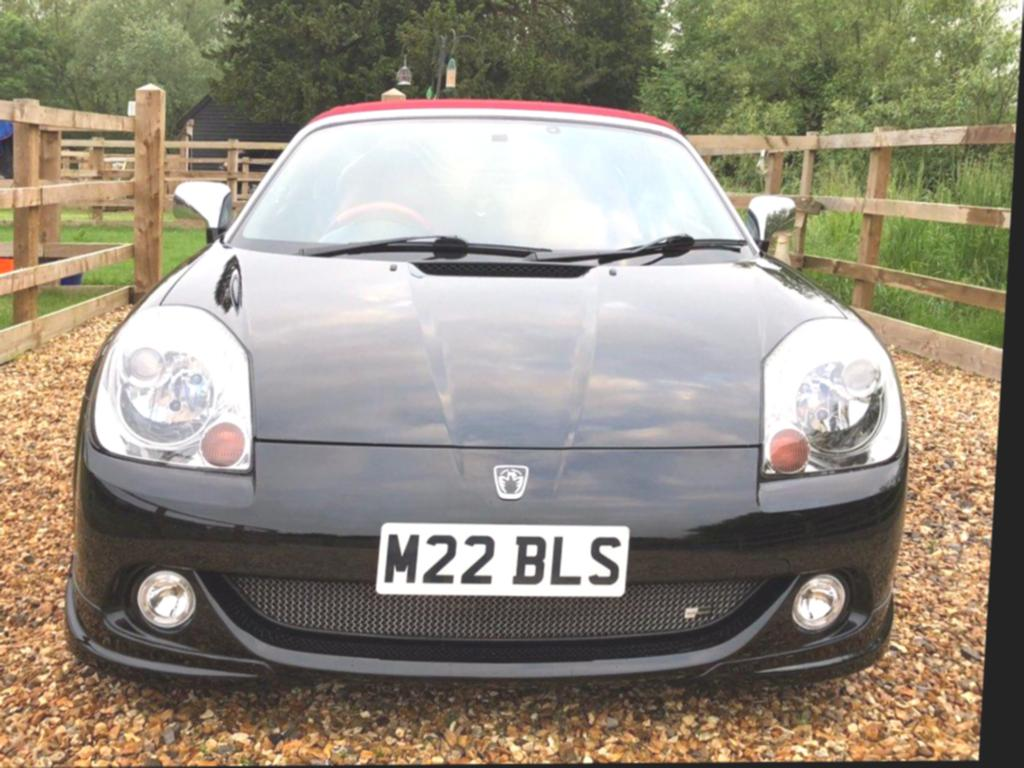License_Plate: (368, 505, 640, 611)
